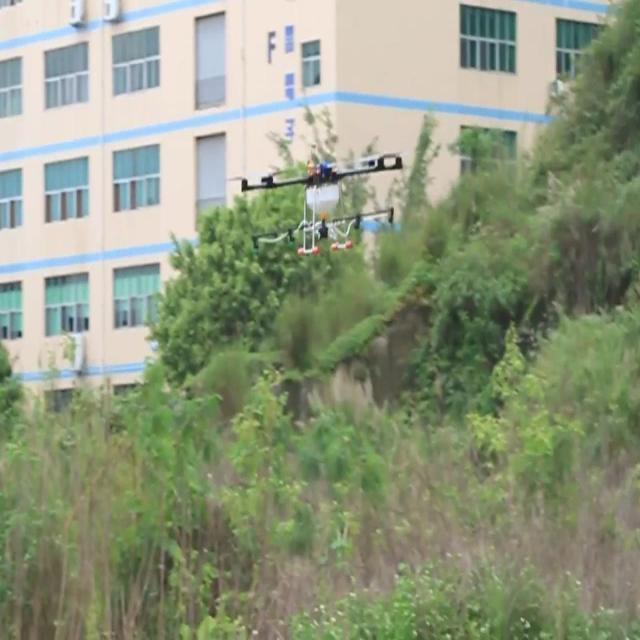drone: (238, 149, 407, 259)
